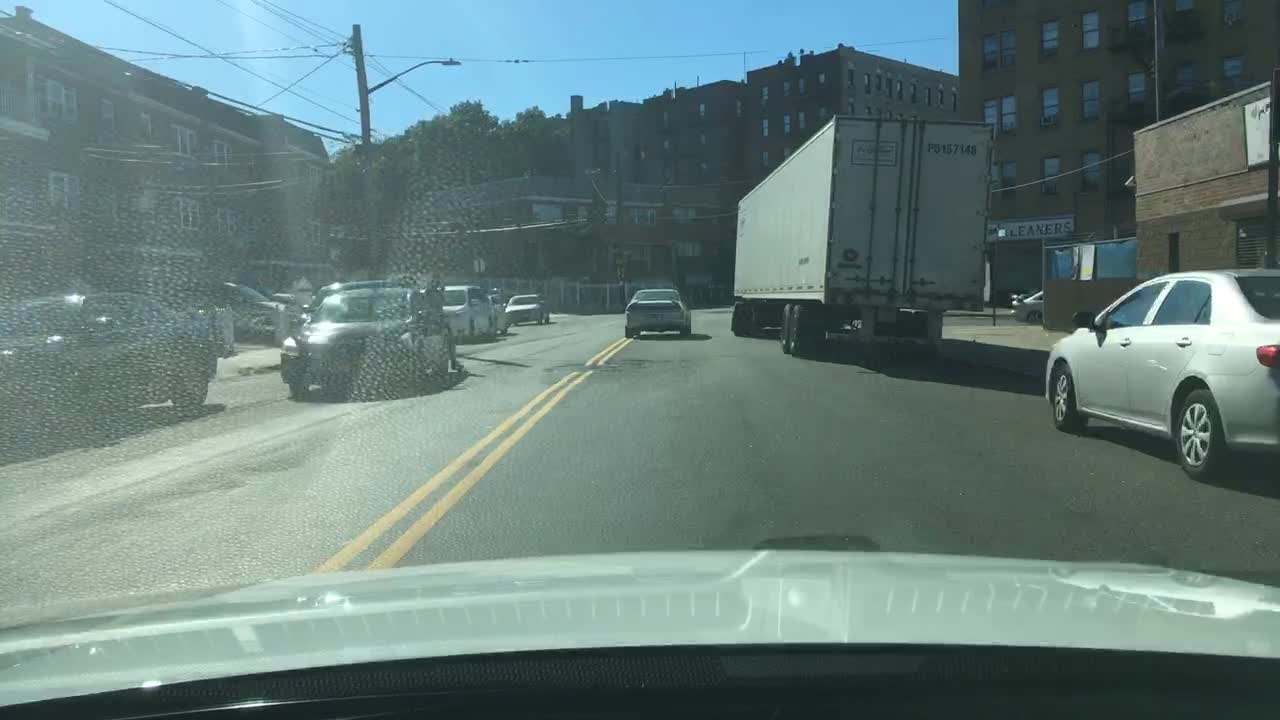car: (1043, 266, 1279, 482), (0, 290, 217, 439), (278, 285, 455, 403), (293, 273, 393, 327), (219, 275, 293, 342), (619, 287, 692, 337), (437, 280, 491, 344), (503, 292, 548, 327), (238, 275, 295, 302), (482, 292, 509, 334), (1011, 292, 1043, 322)
truck: (729, 115, 992, 354)
